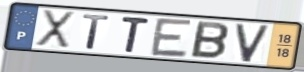B: (188, 20, 231, 61)
E: (149, 16, 195, 60)
T: (120, 15, 152, 55), (81, 13, 112, 51)
V: (234, 22, 272, 64)
X: (33, 8, 77, 51)
